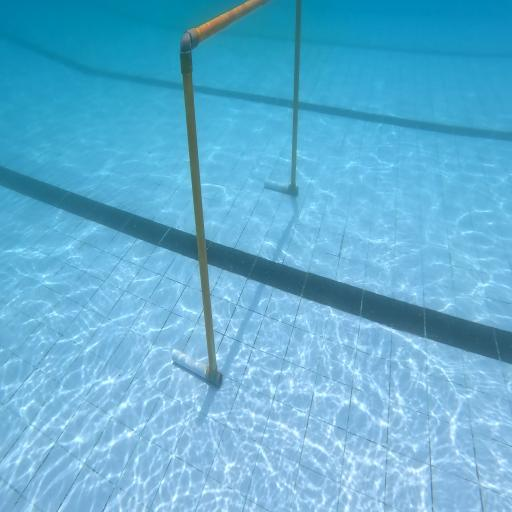gate: (173, 1, 302, 388)
